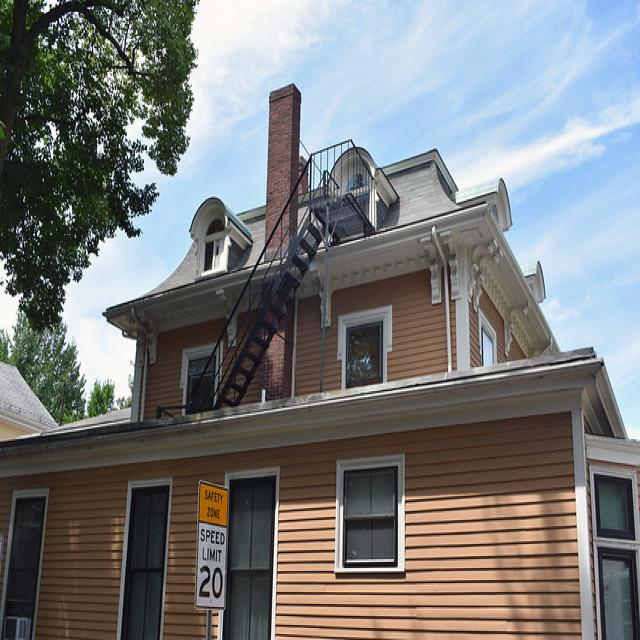Normal_building: (5, 69, 640, 640)
